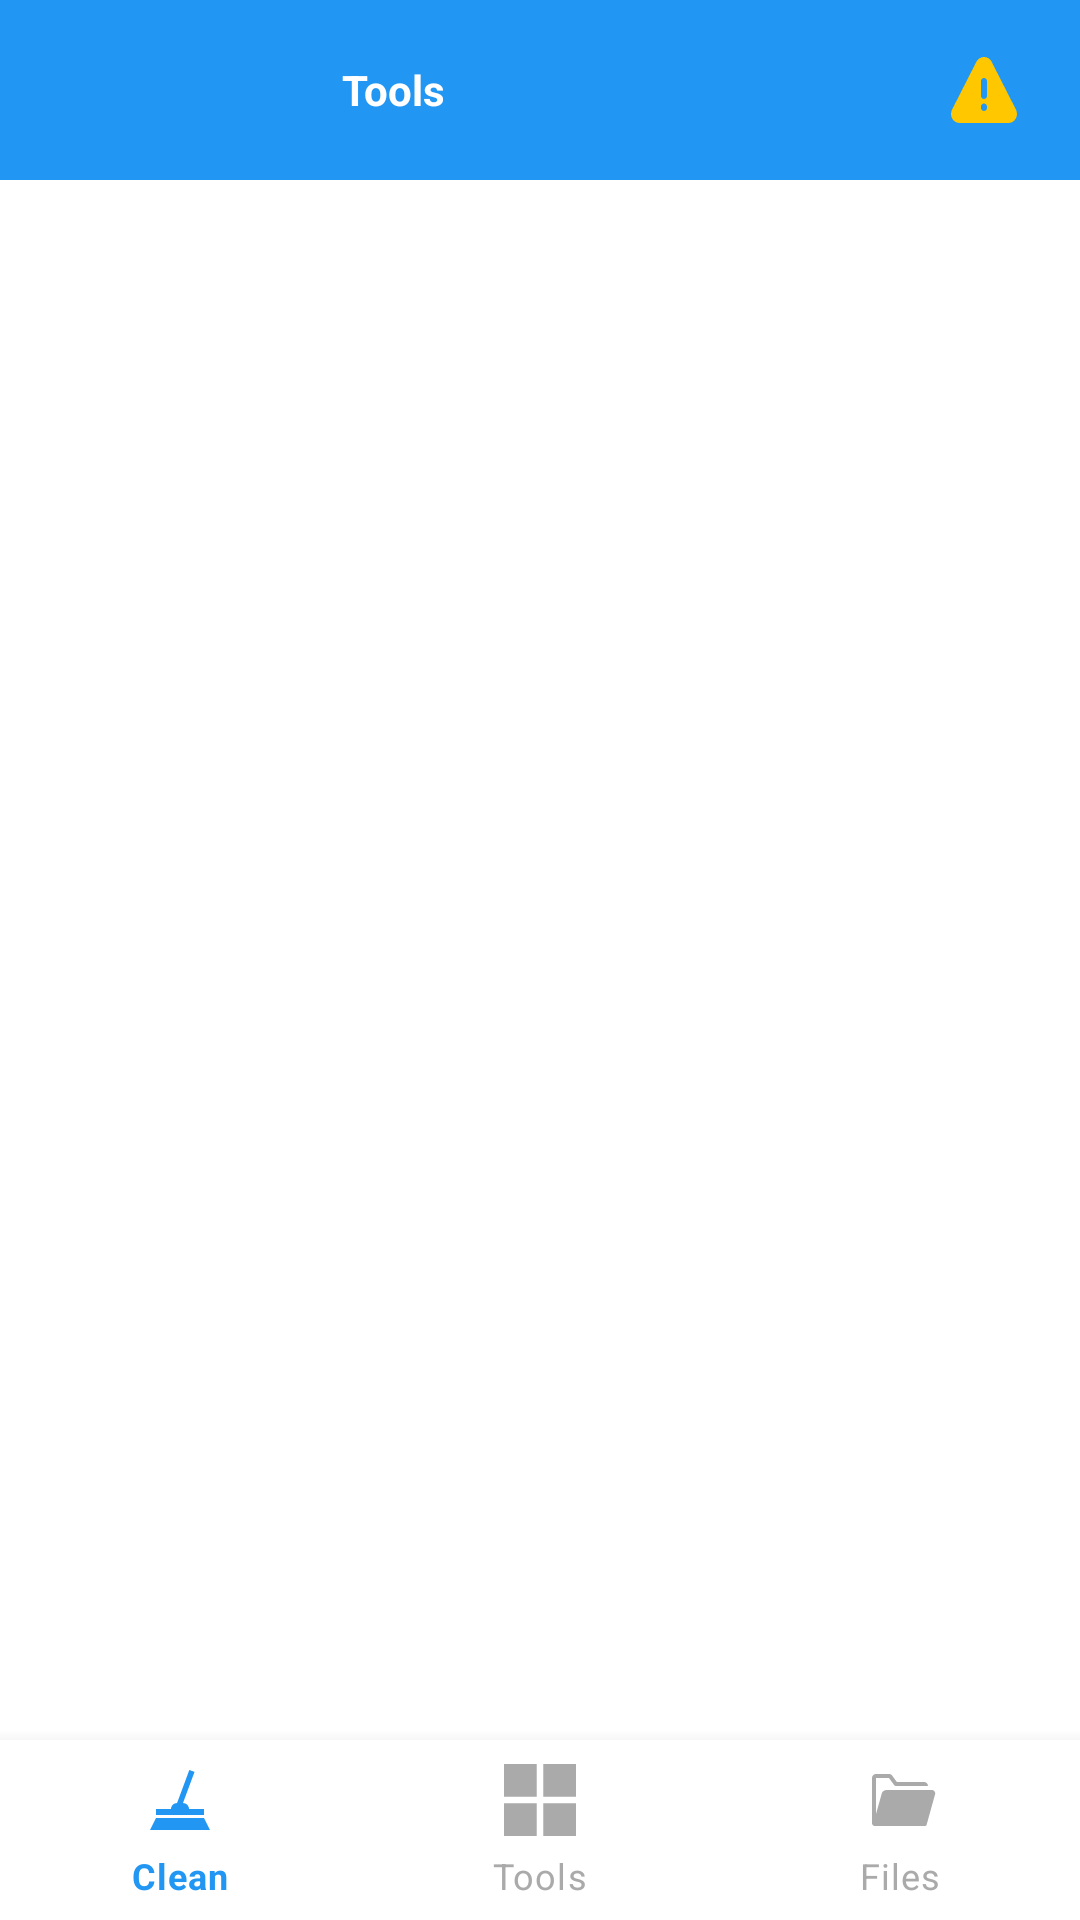

Where to tap for icons on this 1080px x 1920px app screen, as (x=x, y=y):
alert: (x=984, y=90)
